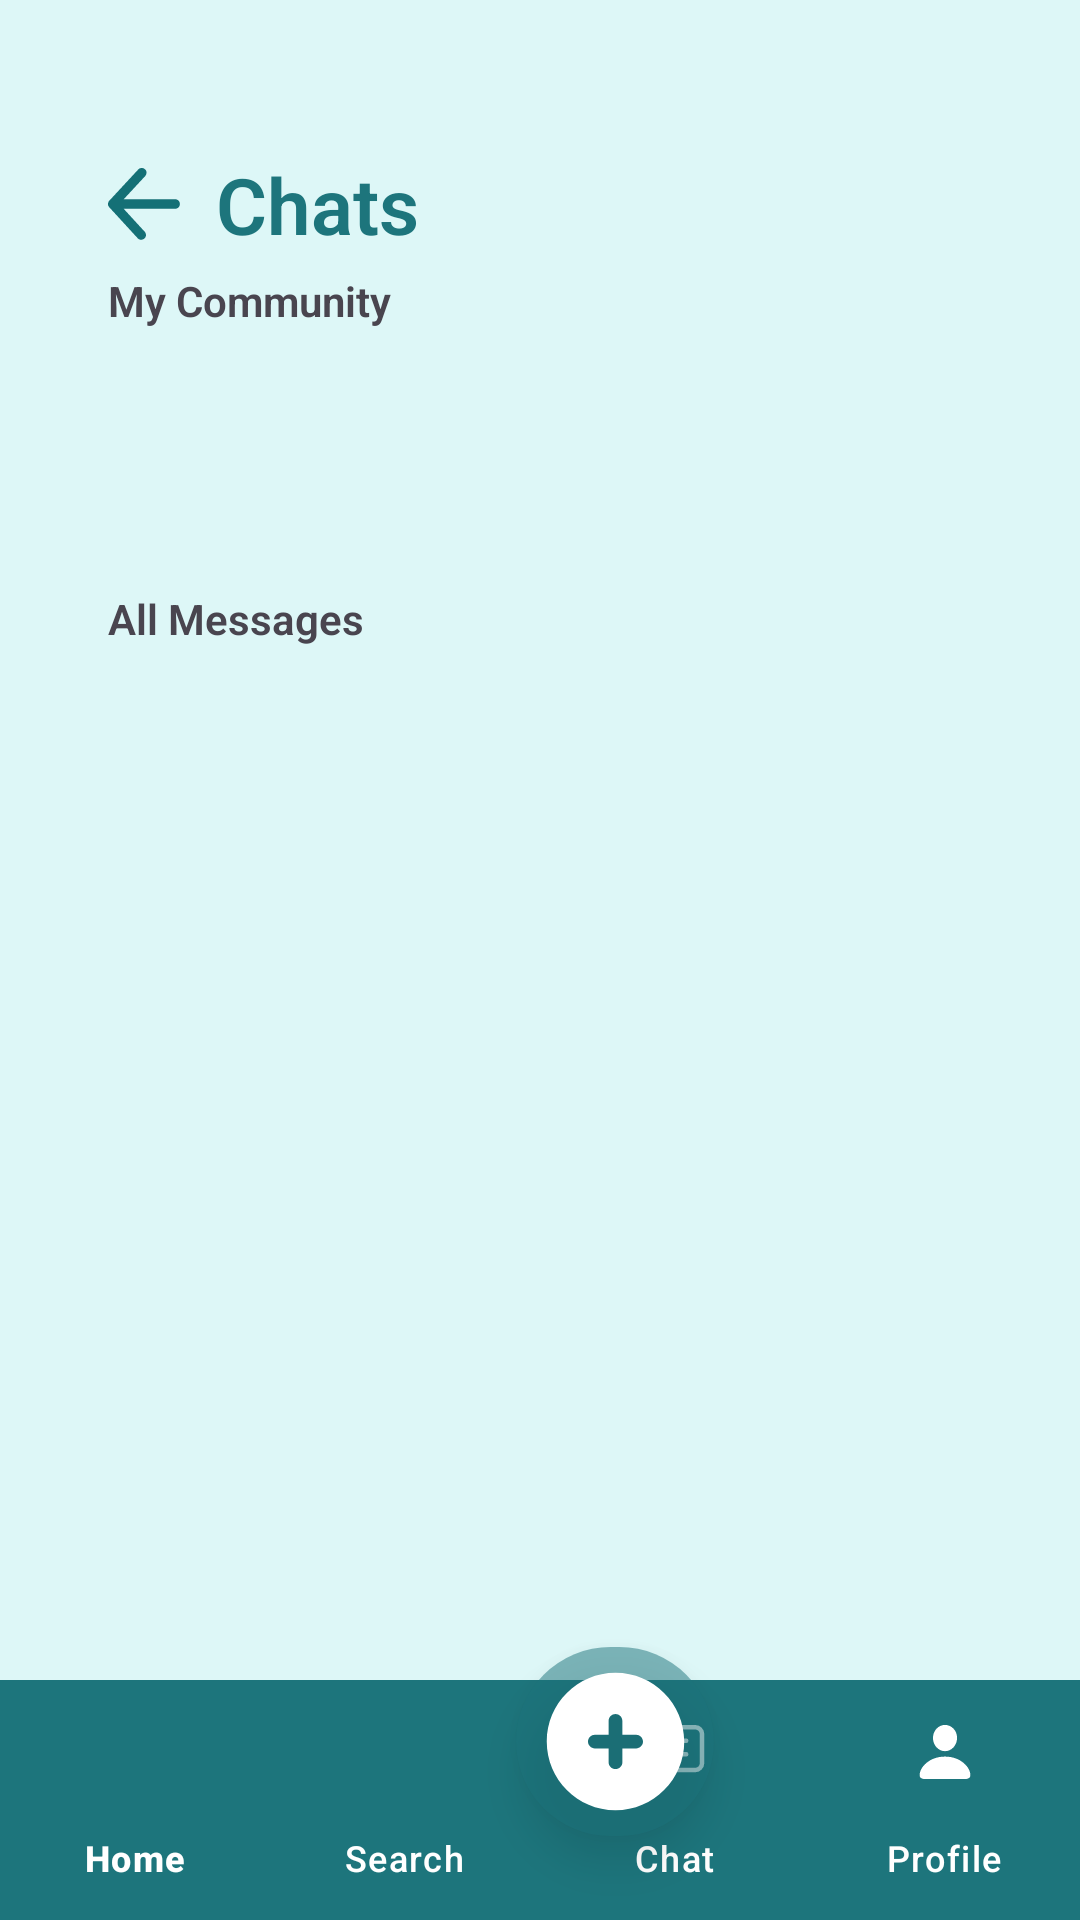

Where icons sit on this 1080×1920 app screen, as [x1,y1,x2,y2]:
back: [108,168,180,240]
plus: [516,1647,714,1811]
